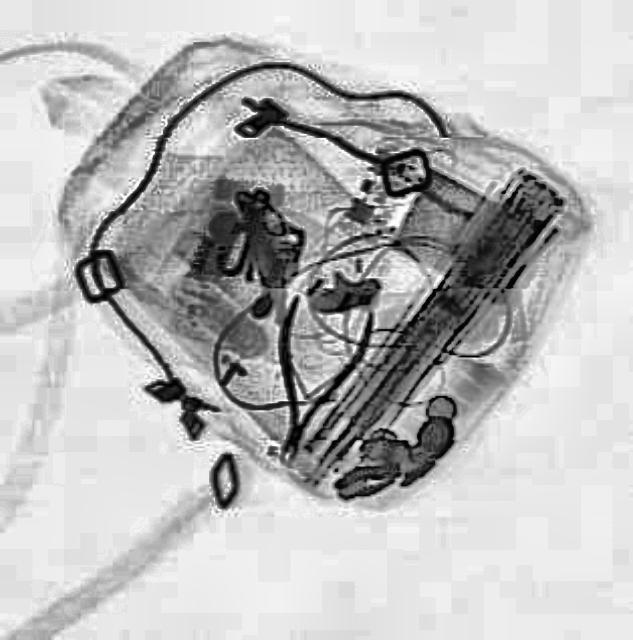Pliers: (242, 289, 376, 466)
